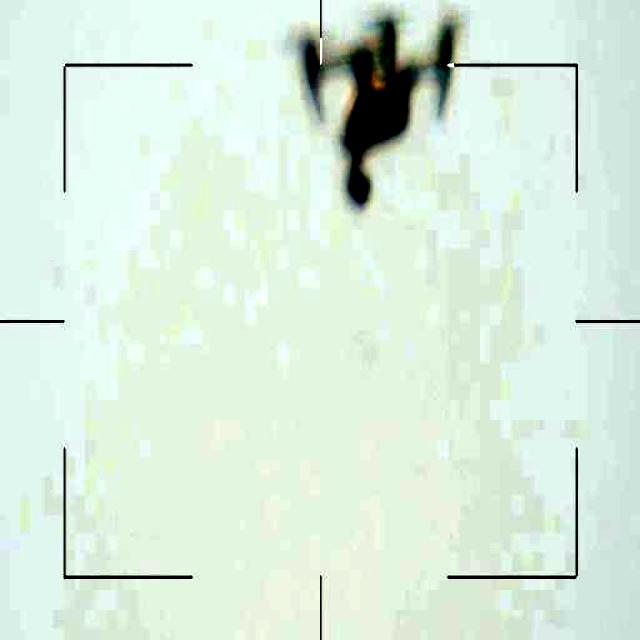bird: (290, 0, 456, 188)
